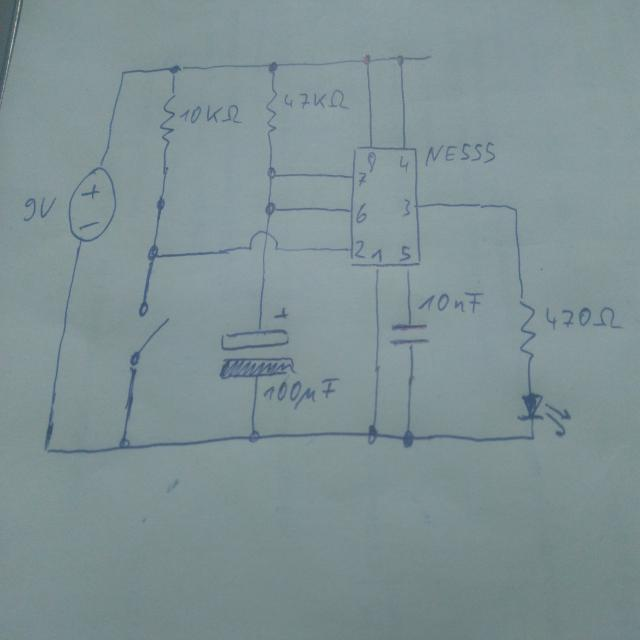capacitor: (219, 327, 294, 382), (387, 322, 429, 344)
crossover: (246, 228, 280, 252)
diode: (518, 392, 570, 438)
junction: (364, 422, 380, 444), (246, 427, 262, 447), (146, 243, 160, 263), (118, 436, 132, 453), (263, 200, 276, 218), (402, 429, 414, 448), (153, 195, 166, 212), (265, 165, 277, 181), (267, 59, 279, 75), (169, 63, 182, 77), (394, 52, 406, 67), (40, 442, 51, 458), (527, 428, 538, 444), (362, 52, 373, 66), (118, 66, 128, 80), (510, 202, 520, 214)
resistor: (518, 295, 538, 361), (158, 90, 176, 148), (264, 86, 280, 140)
source: (66, 167, 117, 244)
switch: (126, 298, 170, 366)
text: (264, 376, 340, 408), (544, 303, 624, 332), (423, 140, 496, 167), (417, 290, 485, 315), (283, 88, 351, 111), (178, 103, 244, 125), (23, 195, 56, 222), (355, 202, 367, 224), (354, 240, 366, 260), (399, 245, 411, 262), (367, 151, 376, 173), (399, 155, 409, 174), (402, 198, 411, 218), (370, 248, 382, 263), (358, 172, 367, 188)
